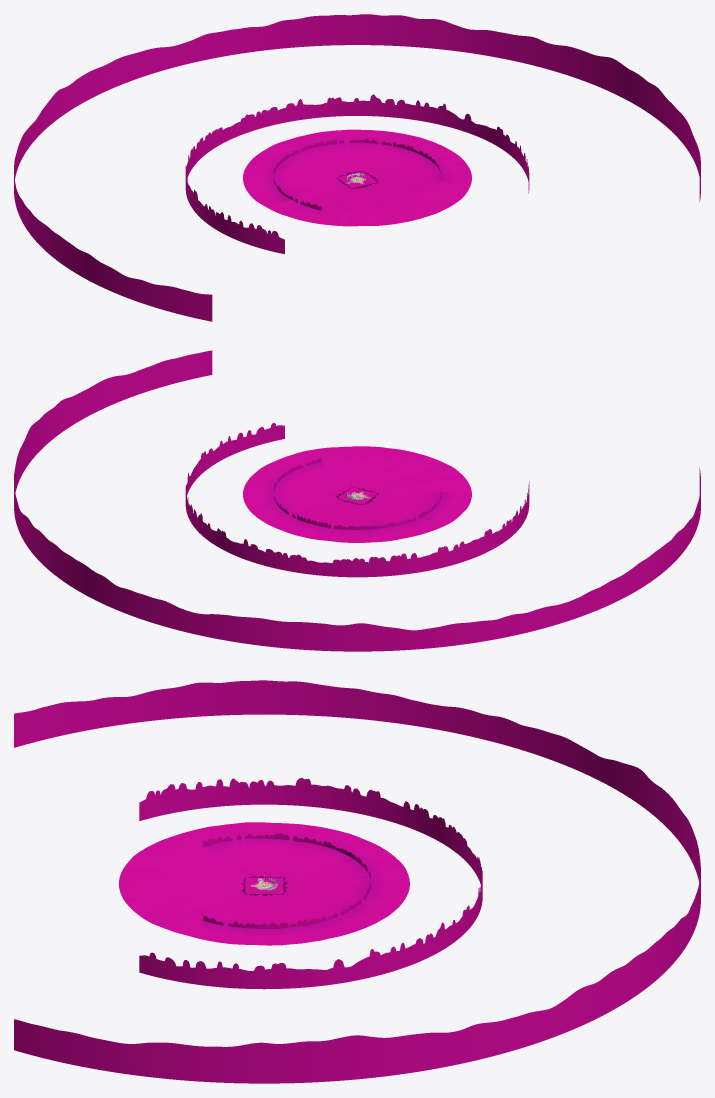
The model's file is court_set_fire_ring.glb.
3 renders of one model, top to bottom at view 1: azimuth 30°, elevation 25°; view 2: azimuth 150°, elevation 25°; view 3: azimuth 270°, elevation 25°, orthographic. The views are drawn at different scales.
Visible parts, largest first — view 1: Far2, Ground, Far1, Far0; view 2: Far2, Ground, Far1, Far0; view 3: Far2, Ground, Far1, Far0.
Boxes of the visible parts, bbox=[...] form: Far2: bbox=[14, 14, 700, 321]; Ground: bbox=[243, 129, 471, 226]; Far1: bbox=[185, 94, 529, 254]; Far0: bbox=[273, 138, 441, 210]; Far2: bbox=[14, 350, 700, 651]; Ground: bbox=[243, 446, 471, 542]; Far1: bbox=[185, 423, 529, 577]; Far0: bbox=[273, 458, 441, 529]; Far2: bbox=[14, 680, 700, 1083]; Ground: bbox=[119, 822, 409, 945]; Far1: bbox=[139, 777, 482, 989]; Far0: bbox=[203, 833, 370, 928].
Bounding box in the file's own units: 360 × 20.1 × 283.
